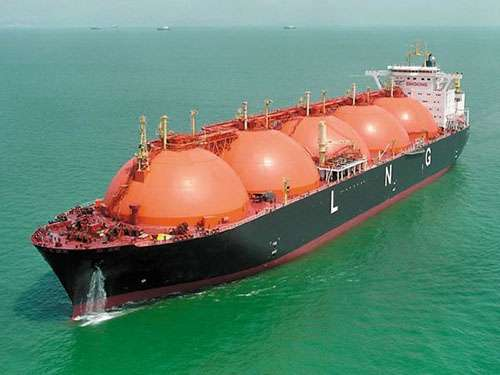Cargoship: (27, 42, 472, 319)
